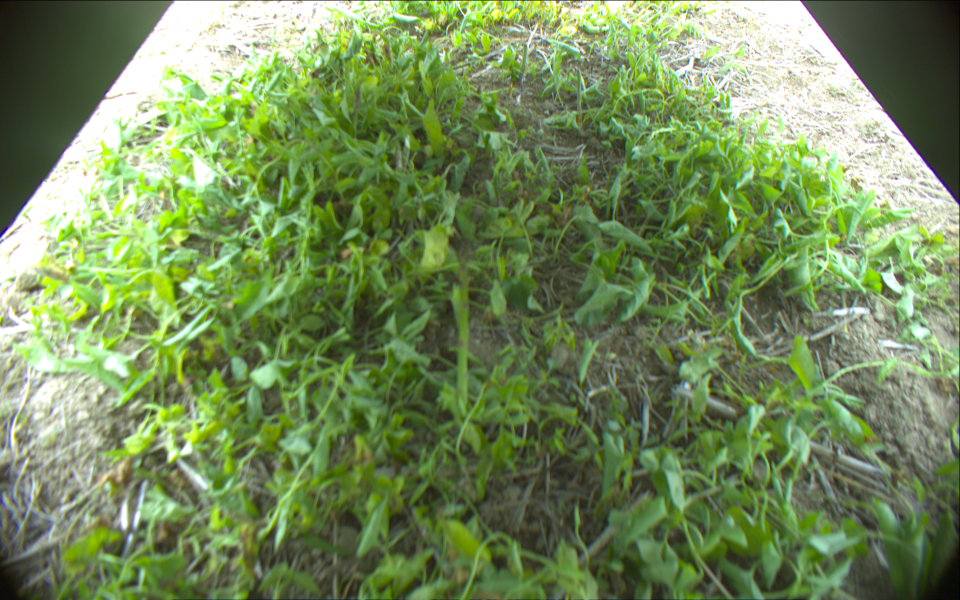aspa: (456, 263, 470, 409)
